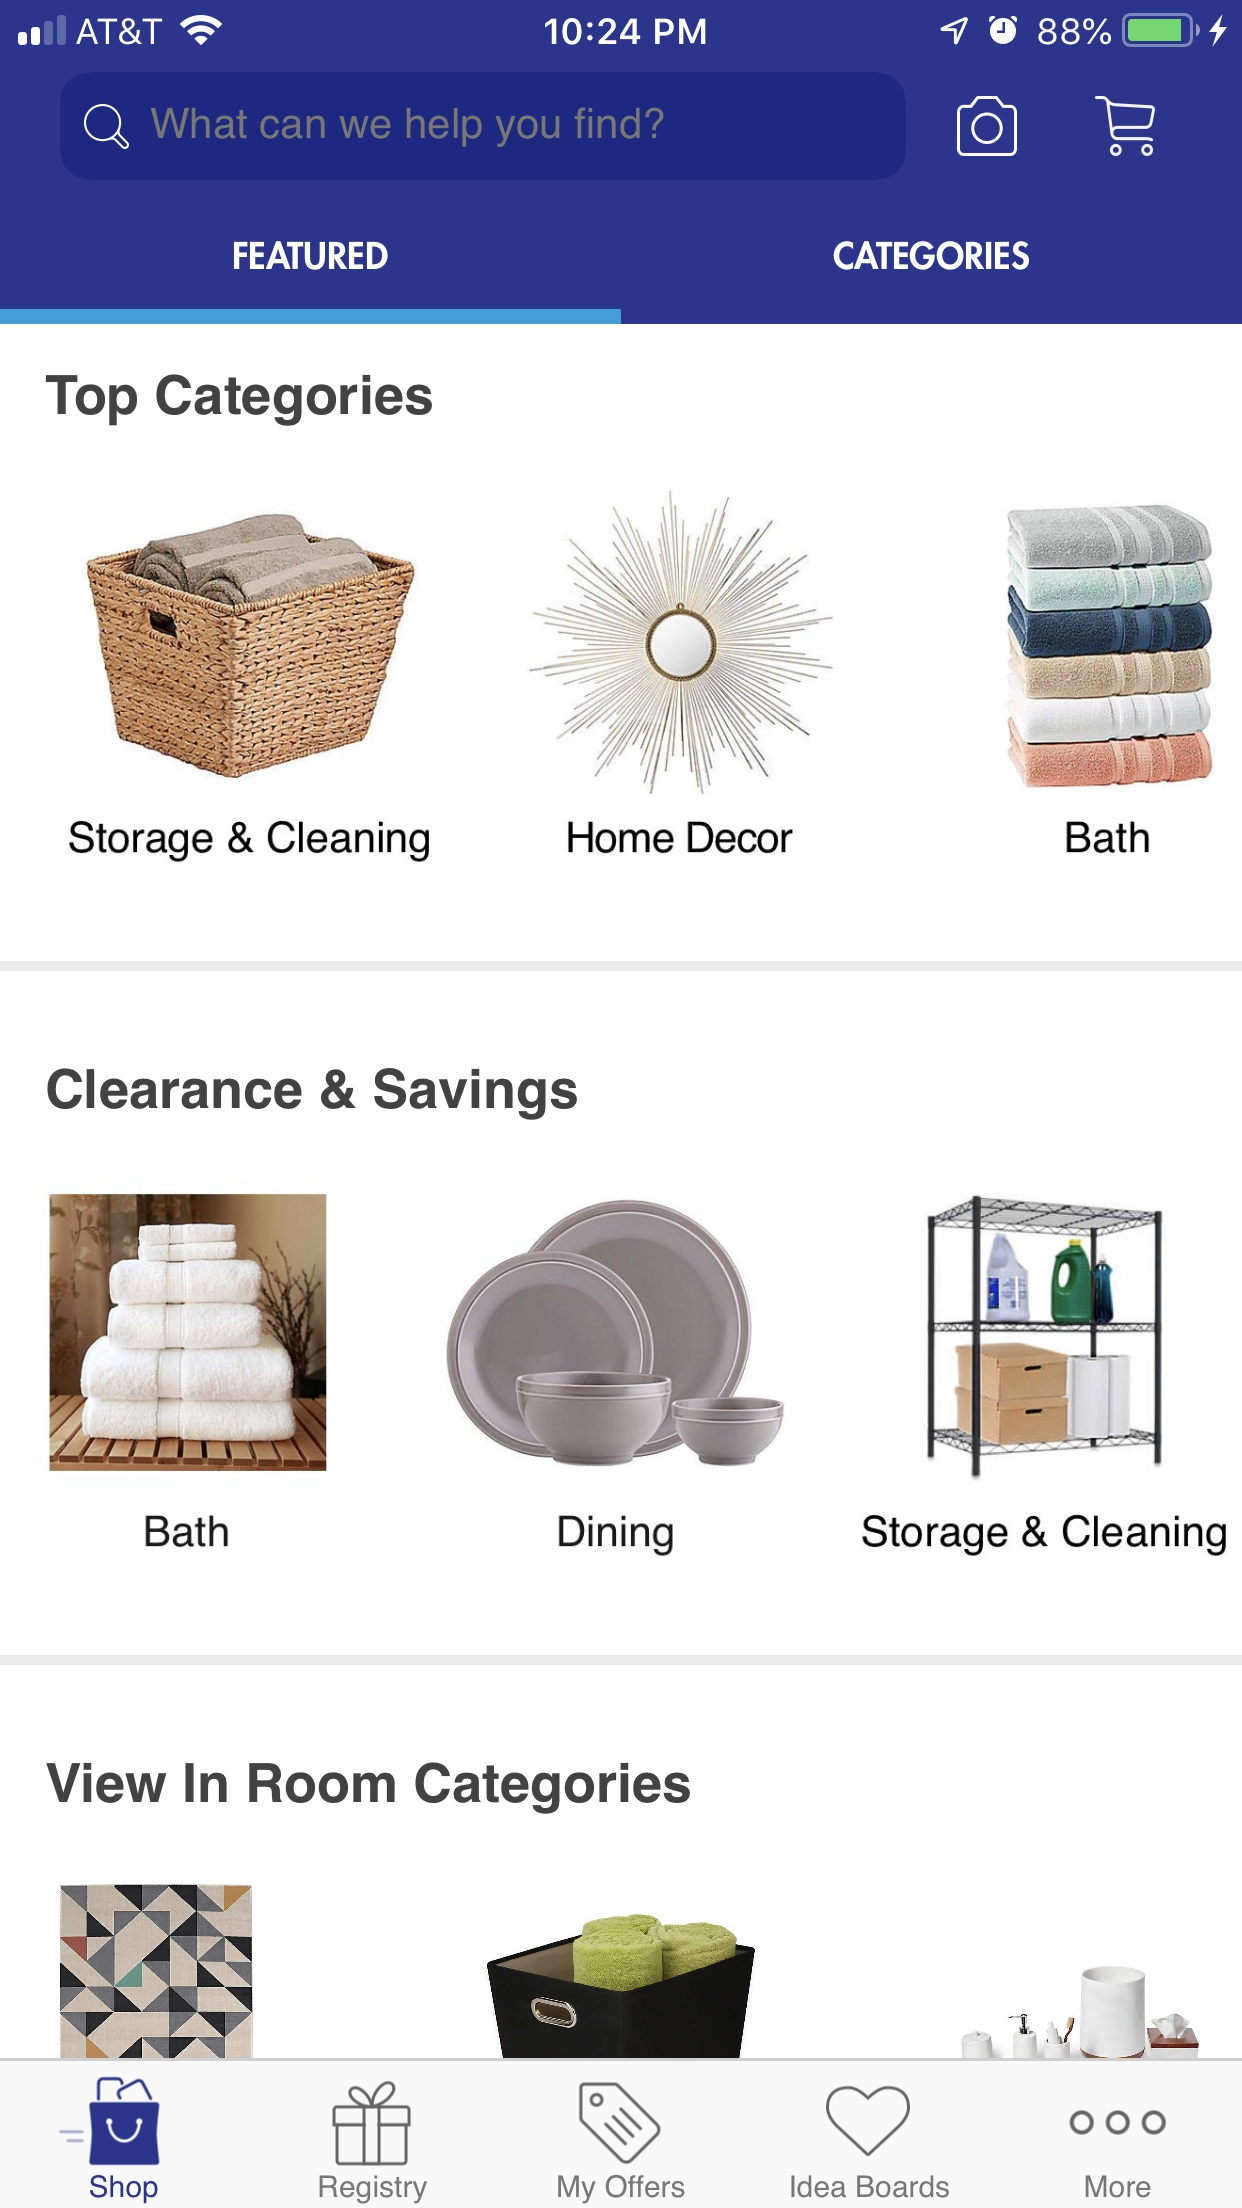EditText: (61, 73, 907, 182)
Icon: (61, 2076, 162, 2166), (579, 2081, 663, 2166), (332, 2081, 412, 2167), (826, 2085, 911, 2156), (955, 96, 1018, 158), (1093, 96, 1156, 158), (1068, 2109, 1168, 2137), (83, 105, 130, 152)
Image: (529, 488, 834, 796), (446, 1198, 786, 1466), (86, 514, 416, 779), (50, 1193, 328, 1473), (927, 1195, 1163, 1480), (1005, 505, 1213, 790), (485, 1912, 757, 2058), (61, 1883, 253, 2058), (961, 1965, 1201, 2059)
Text: (45, 1762, 692, 1815), (47, 1068, 578, 1121), (47, 373, 434, 428), (152, 108, 664, 147), (861, 1513, 1227, 1557), (70, 820, 431, 863), (569, 820, 795, 854), (830, 241, 1030, 273), (558, 1515, 673, 1557), (232, 243, 391, 273), (790, 2175, 949, 2199), (558, 2175, 685, 2203), (318, 2175, 429, 2205), (146, 1513, 231, 1548), (1066, 820, 1149, 854), (89, 2175, 159, 2203), (1084, 2175, 1153, 2199)
UpperTaskBar: (2, 2, 1242, 49)
